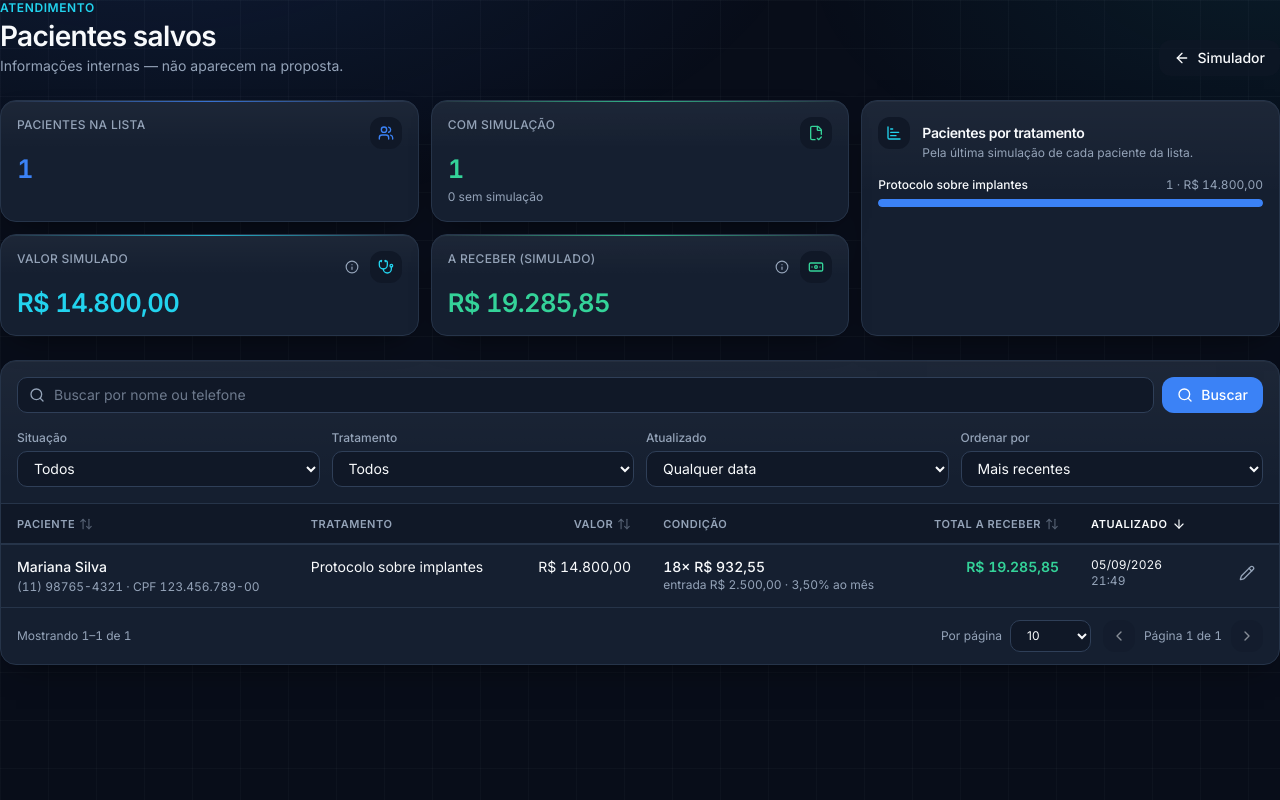
Test: PatientsPage › abre o painel lateral com os dados completos ao clicar no paciente
The image size is (1280, 800).
Click the button "Mariana Silva" at x=62, y=567, box top-left (17, 557), bottom-right (107, 577)
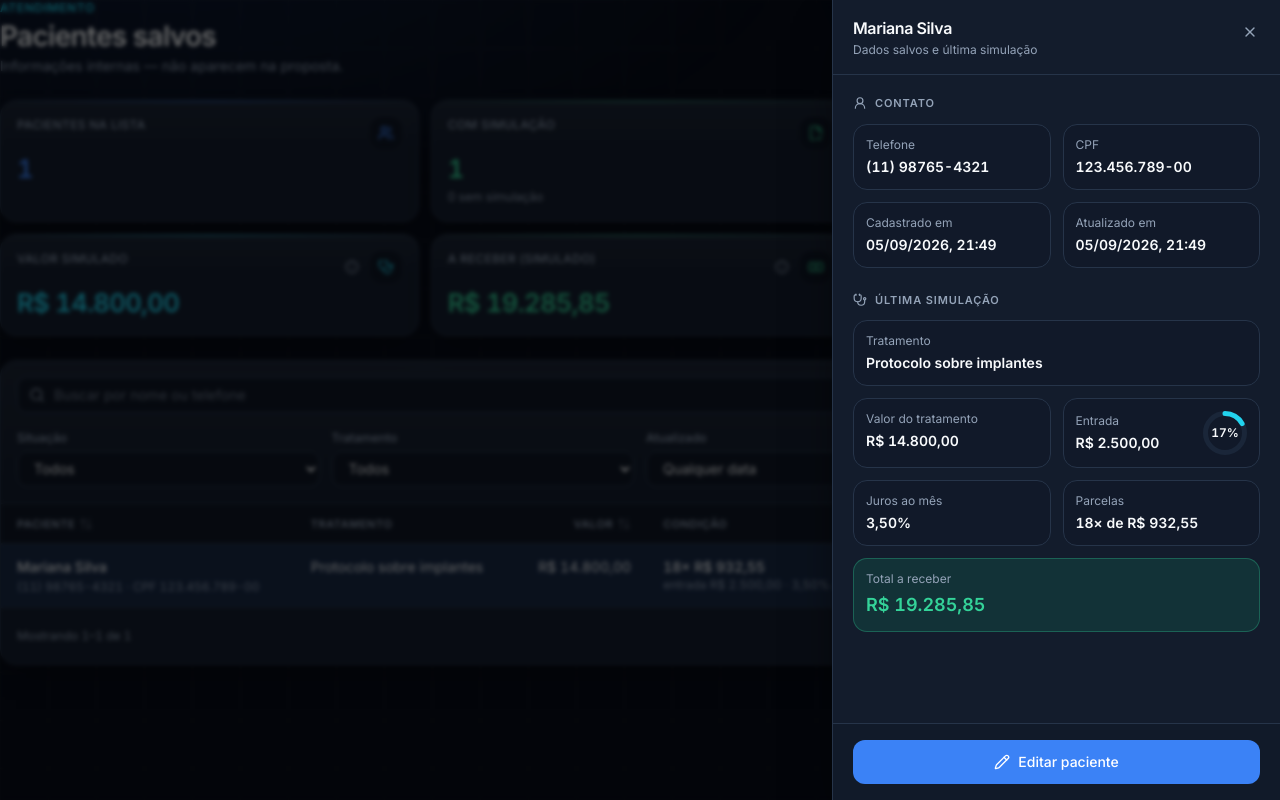
Result: the text "Protocolo sobre implantes" is shown at top-left (866, 354), bottom-right (1043, 371)
Result: the text "18× de R$ 932,55" is shown at top-left (1076, 514), bottom-right (1198, 531)
Result: the text "123.456.789-00" is shown at top-left (1076, 158), bottom-right (1192, 174)
Press Escape
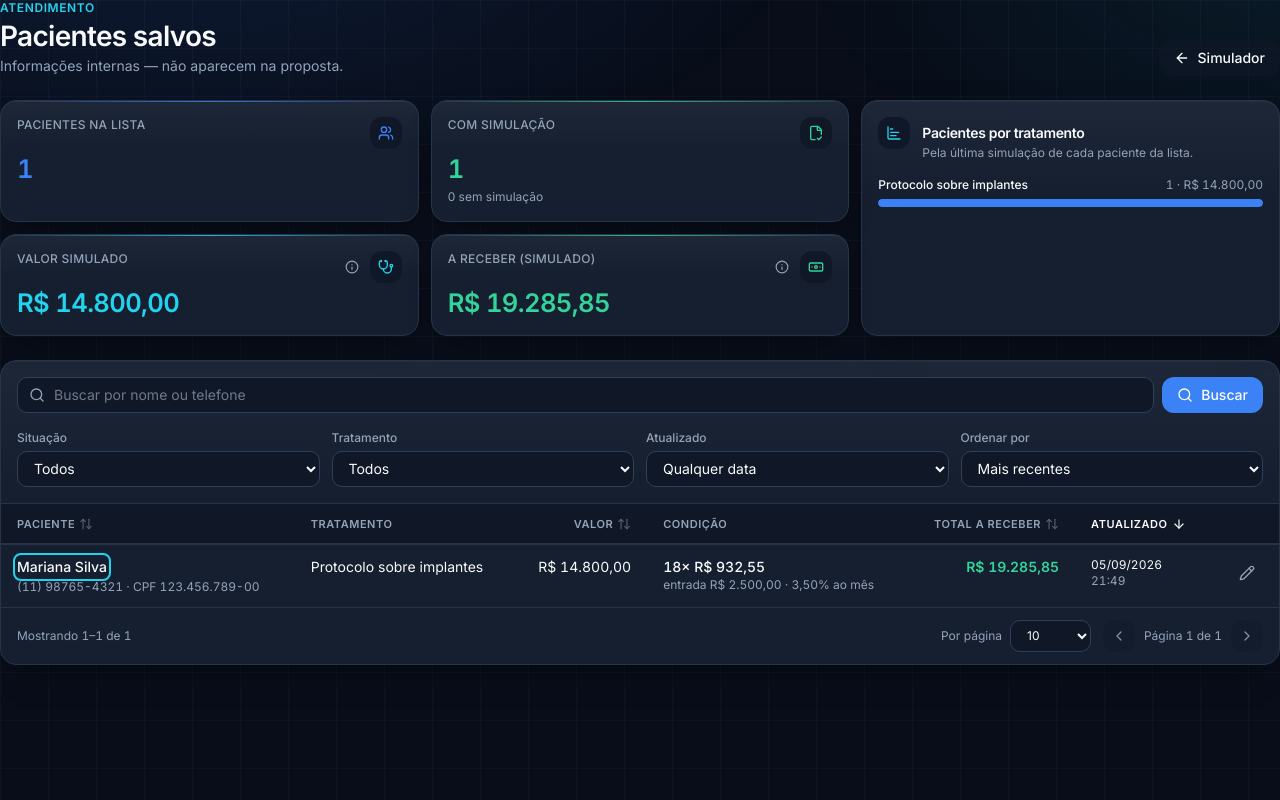
Result: the dialog is gone
